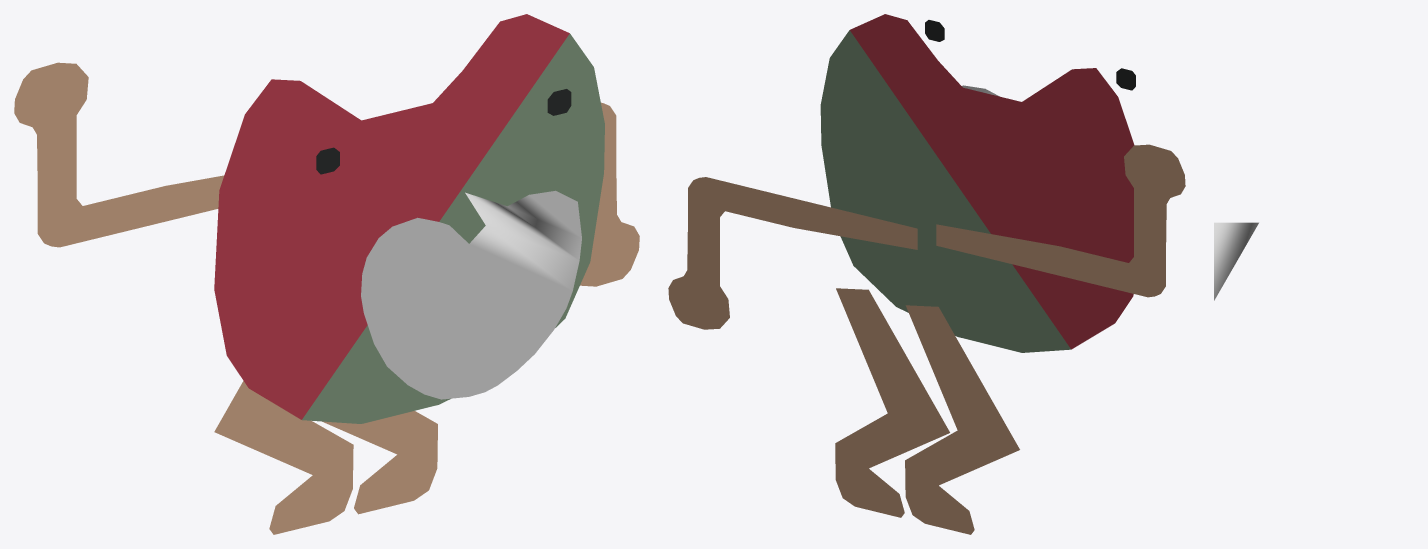
The model's file is file_haha_crouch_backup.fbx.
The picture shows the model from 3 angles, left to right: view 1: azimuth 30°, elevation 25°; view 2: azimuth 150°, elevation 25°; view 3: azimuth 270°, elevation 25°; orthographic projection. The views are drawn at different scales.
Visible parts, largest first — view 1: polySurface21; view 2: polySurface21; view 3: polySurface21.
Boxes of the visible parts, bbox=[...] form: polySurface21: bbox=[14, 14, 639, 534]; polySurface21: bbox=[668, 14, 1185, 534]; polySurface21: bbox=[1214, 222, 1258, 300].
Bounding box in the file's own units: 2.01 × 1.63 × 0.7588.
